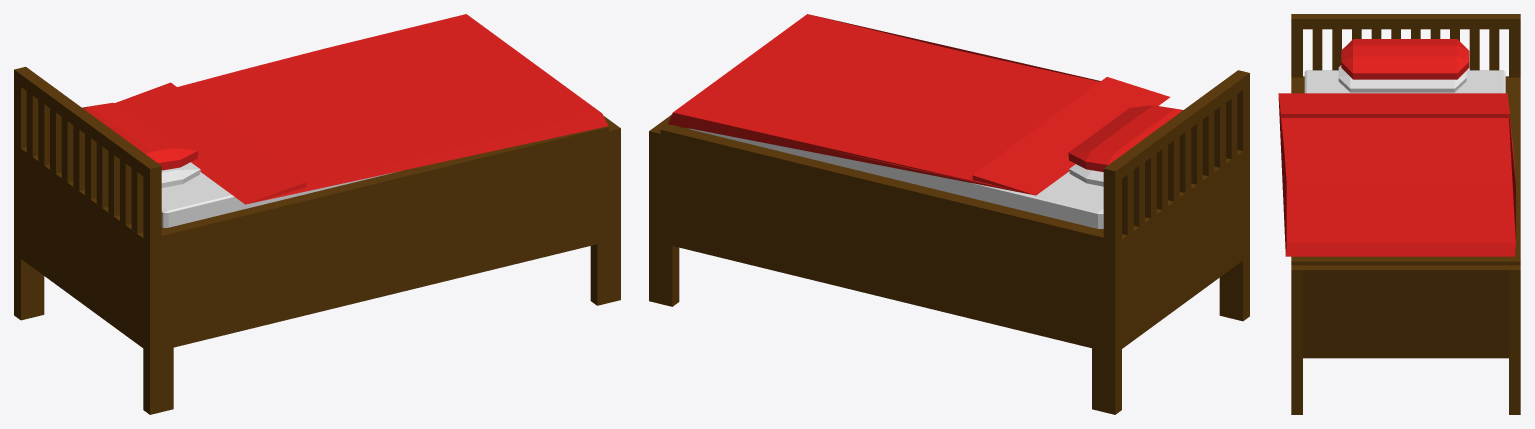
Rendered from bed.glb.
3 renders of one model, left to right at view 1: azimuth 30°, elevation 25°; view 2: azimuth 150°, elevation 25°; view 3: azimuth 270°, elevation 25°, orthographic. The views are drawn at different scales.
Parts seen in each view (by area): view 1: Cube; view 2: Cube; view 3: Cube.
Part boxes in pixels (x1,y1,x2,y2): Cube: (14, 14, 620, 414); Cube: (649, 14, 1249, 414); Cube: (1278, 14, 1520, 414).
Size of the model in its own units: 4 by 2 by 2.11.
